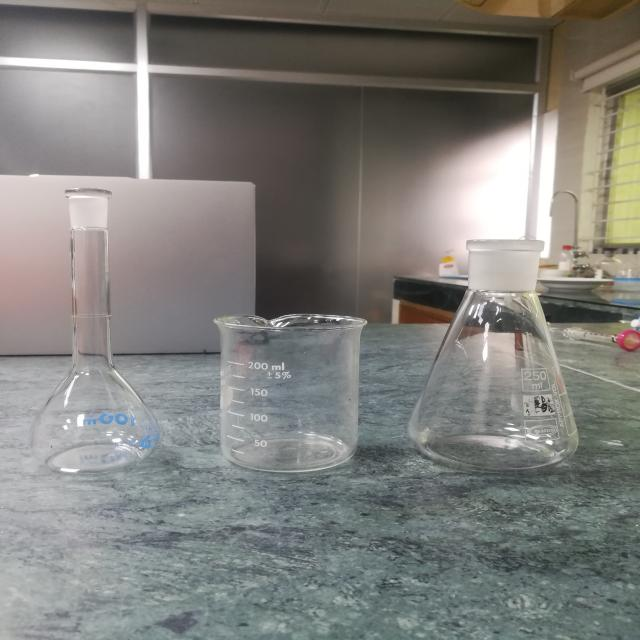Beaker: (198, 273, 373, 485)
Conical_Flask: (405, 212, 598, 488)
Volumetric_Flask: (15, 157, 166, 488)
